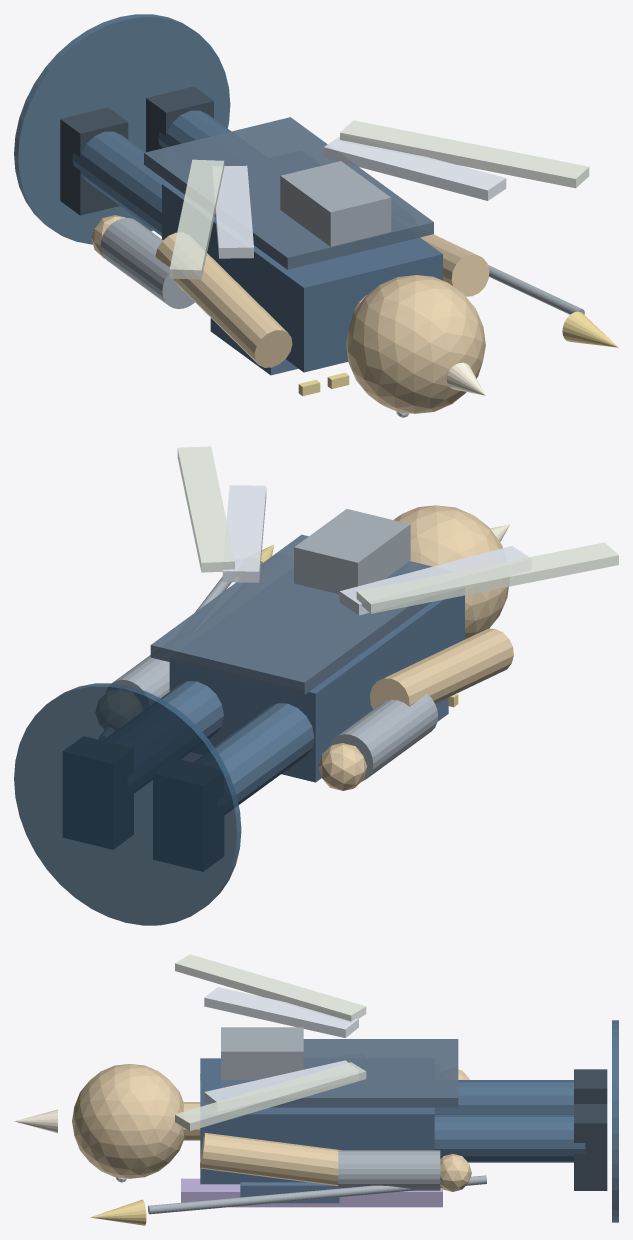
The model's file is SW_NPC_025_zorin_quillspire.glb.
3 views of the same model, one above another, from view 1: azimuth 30°, elevation 25°; view 2: azimuth 150°, elevation 25°; view 3: azimuth 270°, elevation 25° (orthographic). The views are drawn at different scales.
Parts seen in each view (by area): view 1: round_base_plate, head, torso_uniform, storm_cloak, wingpack_core, left_upper_arm, right_feather_wing, left_leg, right_wing_rig, left_feather_wing, left_forearm_gauntlet, left_boot (+8 smaller); view 2: round_base_plate, storm_cloak, torso_uniform, wingpack_core, left_feather_wing, head, left_upper_arm, left_leg, right_feather_wing, left_forearm_gauntlet, right_wing_rig, left_wing_rig (+3 smaller); view 3: head, torso_uniform, storm_cloak, right_leg, right_upper_arm, left_leg, wingpack_core, right_feather_wing, right_forearm_gauntlet, left_feather_wing, left_wing_rig, rank_sash (+9 smaller).
Part boxes in pixels (bbox=[...]): round_base_plate: bbox=[14, 14, 230, 244]; head: bbox=[346, 275, 485, 413]; torso_uniform: bbox=[162, 182, 442, 372]; storm_cloak: bbox=[144, 117, 433, 269]; wingpack_core: bbox=[280, 161, 391, 246]; left_upper_arm: bbox=[155, 232, 292, 367]; right_feather_wing: bbox=[340, 120, 589, 188]; left_leg: bbox=[72, 131, 167, 236]; right_wing_rig: bbox=[323, 136, 506, 200]; left_feather_wing: bbox=[169, 159, 224, 279]; left_forearm_gauntlet: bbox=[100, 218, 194, 308]; left_boot: bbox=[60, 107, 128, 215]; round_base_plate: bbox=[14, 683, 241, 925]; storm_cloak: bbox=[150, 534, 432, 694]; torso_uniform: bbox=[169, 595, 464, 782]; wingpack_core: bbox=[294, 509, 410, 594]; left_feather_wing: bbox=[356, 542, 618, 613]; head: bbox=[393, 505, 508, 639]; left_upper_arm: bbox=[370, 628, 513, 709]; left_leg: bbox=[214, 703, 314, 805]; right_feather_wing: bbox=[177, 446, 234, 572]; left_forearm_gauntlet: bbox=[328, 693, 437, 781]; right_wing_rig: bbox=[222, 485, 266, 582]; left_wing_rig: bbox=[339, 546, 529, 615]; head: bbox=[72, 1064, 184, 1178]; torso_uniform: bbox=[200, 1058, 434, 1184]; storm_cloak: bbox=[221, 1039, 458, 1107]; right_leg: bbox=[434, 1114, 585, 1162]; right_upper_arm: bbox=[200, 1133, 340, 1185]; left_leg: bbox=[434, 1080, 573, 1114]; wingpack_core: bbox=[221, 1027, 303, 1079]; right_feather_wing: bbox=[175, 1062, 366, 1130]; right_forearm_gauntlet: bbox=[338, 1150, 440, 1190]; left_feather_wing: bbox=[175, 954, 366, 1021]; left_wing_rig: bbox=[204, 987, 358, 1037]; rank_sash: bbox=[181, 1178, 442, 1207].
Bounding box in the file's own units: 1.5 × 0.756 × 2.26.
